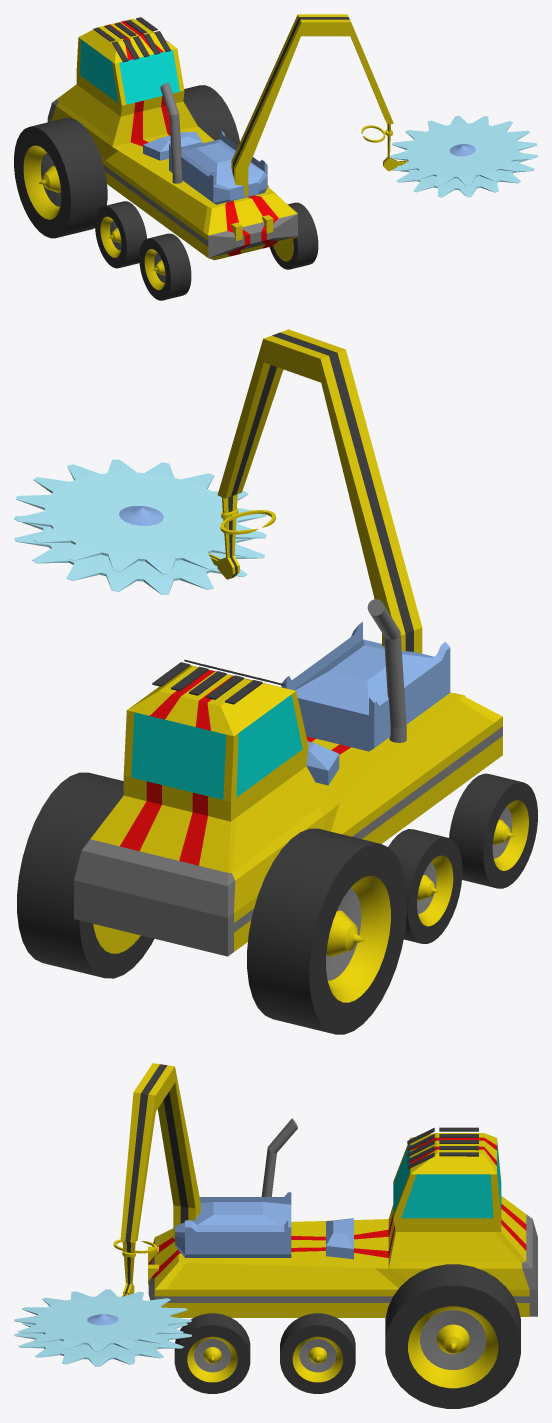
The model's file is abatteuse (2).fbx.
3 renders of one model, top to bottom at view 1: azimuth 30°, elevation 25°; view 2: azimuth 150°, elevation 25°; view 3: azimuth 270°, elevation 25°, orthographic. The views are drawn at different scales.
Parts seen in each view (by area): view 1: corps abatteuse, roue.003, Cylinder.010, Cube.001, roue.004, roue.005, roue, roue.001, Cube; view 2: corps abatteuse, roue.003, Cylinder.010, Cube.001, roue, roue.004, roue.005, Cube; view 3: corps abatteuse, roue, Cylinder.010, Cube.001, roue.002, roue.001, Cube.
Boxes of the visible parts, x1,y1,x2,y2 form: corps abatteuse: (47,18,297,260); roue.003: (14,118,107,238); Cylinder.010: (390,116,537,197); Cube.001: (231,14,408,196); roue.004: (139,233,191,300); roue.005: (95,201,146,268); roue: (183,85,239,145); roue.001: (269,202,318,269); Cube: (93,17,170,62); corps abatteuse: (74,599,502,956); roue.003: (247,828,407,1034); Cylinder.010: (14,459,266,594); Cube.001: (209,329,422,653); roue: (17,772,153,978); roue.004: (449,773,537,888); roue.005: (388,829,462,943); Cube: (152,659,285,704); corps abatteuse: (148,1118,537,1317); roue: (385,1264,520,1408); Cylinder.010: (14,1289,191,1366); Cube.001: (113,1063,200,1296); roue.002: (280,1313,355,1393); roue.001: (174,1313,250,1393); Cube: (407,1127,478,1169).
Bounding box in the file's own units: 934 × 707 × 1037.
